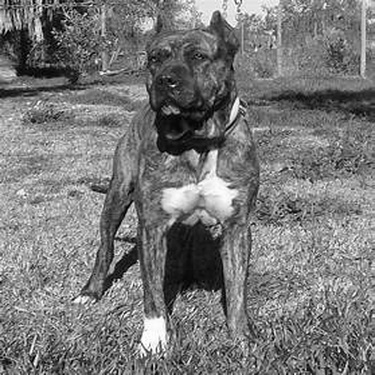dog: (72, 1, 274, 366)
